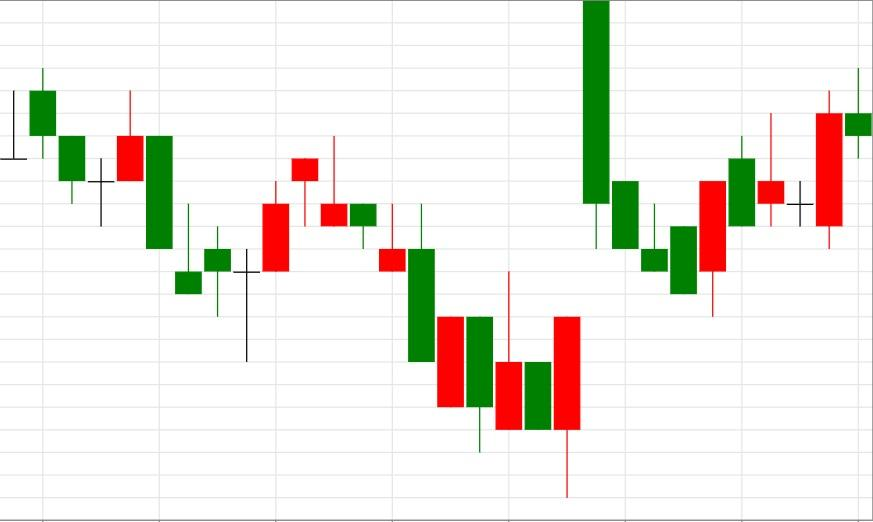bullish_engulfing_rise: (291, 135, 582, 499)
hanging_man_fall: (174, 157, 320, 363)
inverse_hammer_rise: (116, 91, 203, 296)
